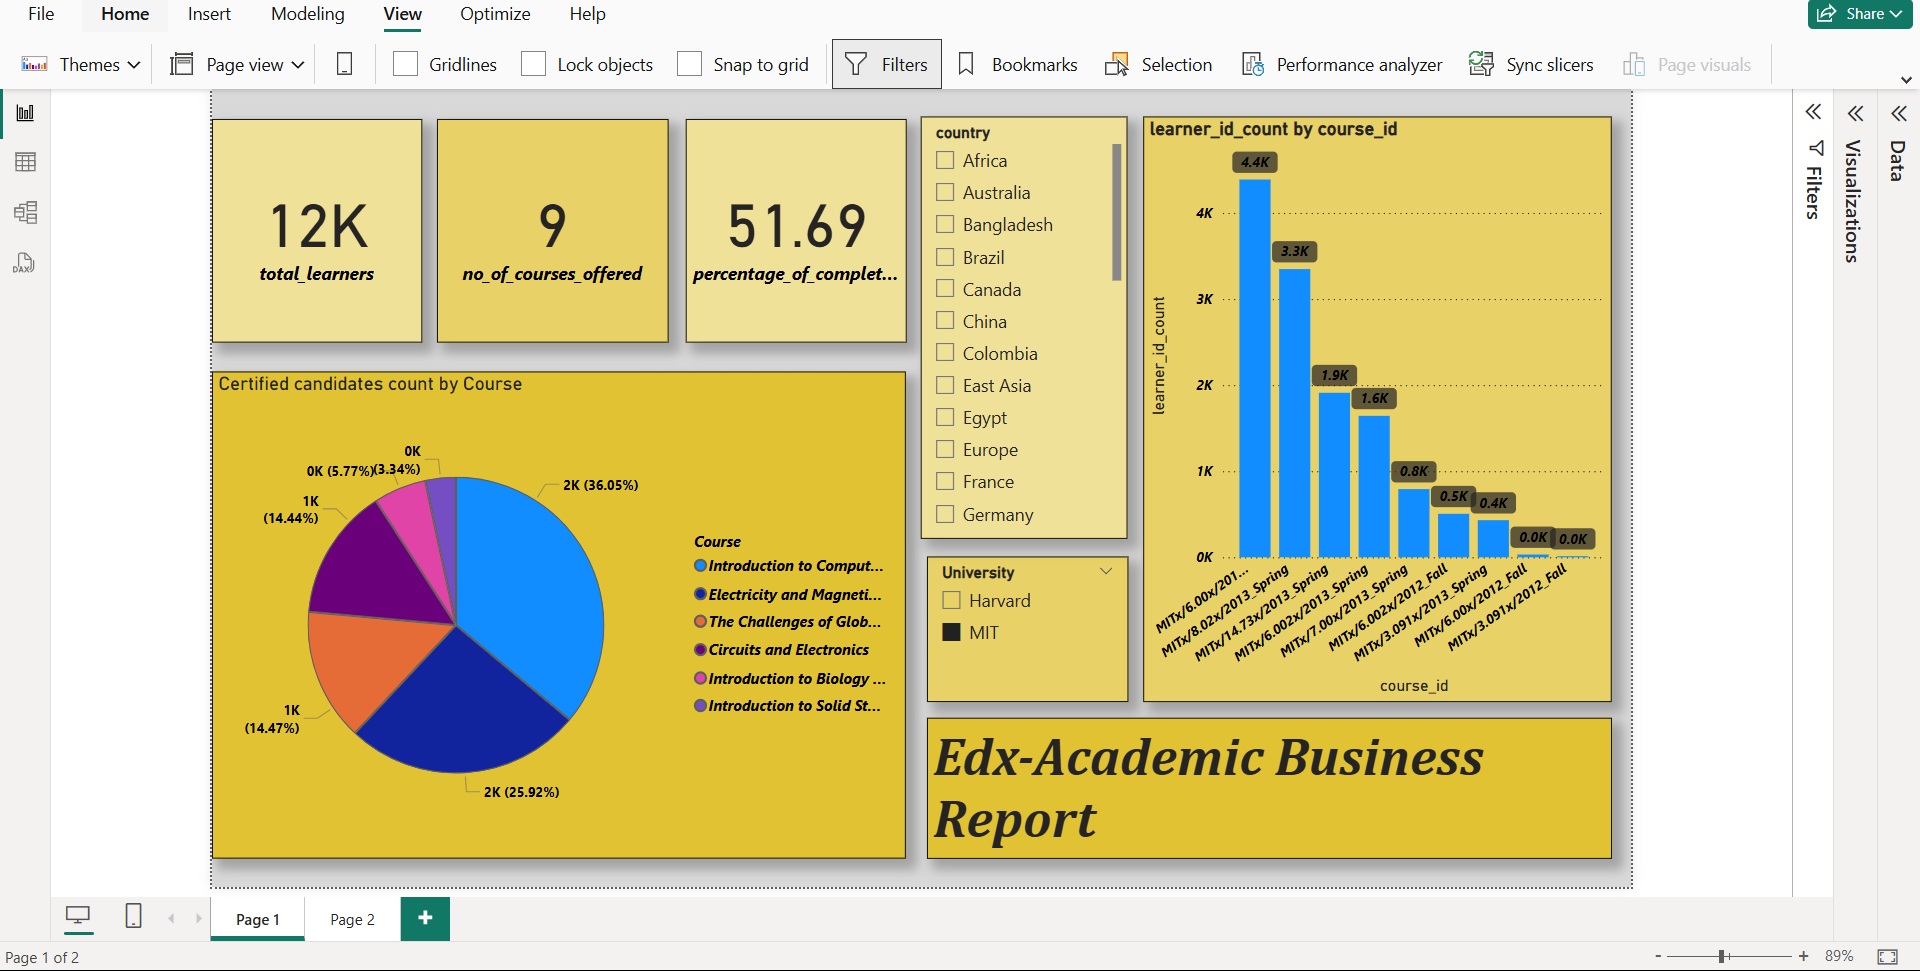

The dashboard page shown, as its layout file describes it:
{"tool":"powerbi","page":{"name":"Page 1","canvas":[1280,720],"ordinal":0},"visuals":[{"type":"card","fields":{"Values":["PART-A DATASET edx.total_learners"]},"box":[0,27.3,189.5,201.8],"z":0},{"type":"card","fields":{"Values":["PART-A DATASET edx.no_of_courses_offered"]},"box":[203.2,27.3,208.6,201.8],"z":1000},{"type":"card","fields":{"Values":["PART-A DATASET edx.percentage_of_completion"]},"box":[426.8,27.3,199.1,201.8],"z":2000},{"type":"pieChart","fields":{"Y":["PART-A DATASET edx.ones_count"],"Category":["PART-A DATASET edx.course_long_title"]},"box":[0,255,625.8,439],"z":3000},{"type":"slicer","fields":{"Values":["PART-A DATASET edx.University"]},"box":[644.9,421.3,181.3,130.9],"z":4000},{"type":"slicer","fields":{"Values":["PART-A DATASET edx.country"]},"box":[639.5,24.5,186.8,380.4],"z":5000},{"type":"lineStackedColumnComboChart","fields":{"Category":["PART-A DATASET edx.course_id"],"Y":["PART-A DATASET edx.learner_id_count"]},"box":[839.9,24.5,422.7,527.7],"z":6000},{"type":"textbox","box":[644.9,567.2,617.6,126.8],"z":7000}]}

Visuals, with their boxes on the page's 1280x720 design canvas (x1, y1, x2, y2). These are canvas units, not pixel positions in the 1920x971 screenshot, which may show the page scaled, cropped or inside an application window:
card - PART-A DATASET edx.total_learners: (left=0, top=27, right=190, bottom=229)
card - PART-A DATASET edx.no_of_courses_offered: (left=203, top=27, right=412, bottom=229)
card - PART-A DATASET edx.percentage_of_completion: (left=427, top=27, right=626, bottom=229)
pieChart - PART-A DATASET edx.ones_count x PART-A DATASET edx.course_long_title: (left=0, top=255, right=626, bottom=694)
slicer - PART-A DATASET edx.University: (left=645, top=421, right=826, bottom=552)
slicer - PART-A DATASET edx.country: (left=640, top=24, right=826, bottom=405)
lineStackedColumnComboChart - PART-A DATASET edx.course_id x PART-A DATASET edx.learner_id_count: (left=840, top=24, right=1263, bottom=552)
textbox: (left=645, top=567, right=1262, bottom=694)
